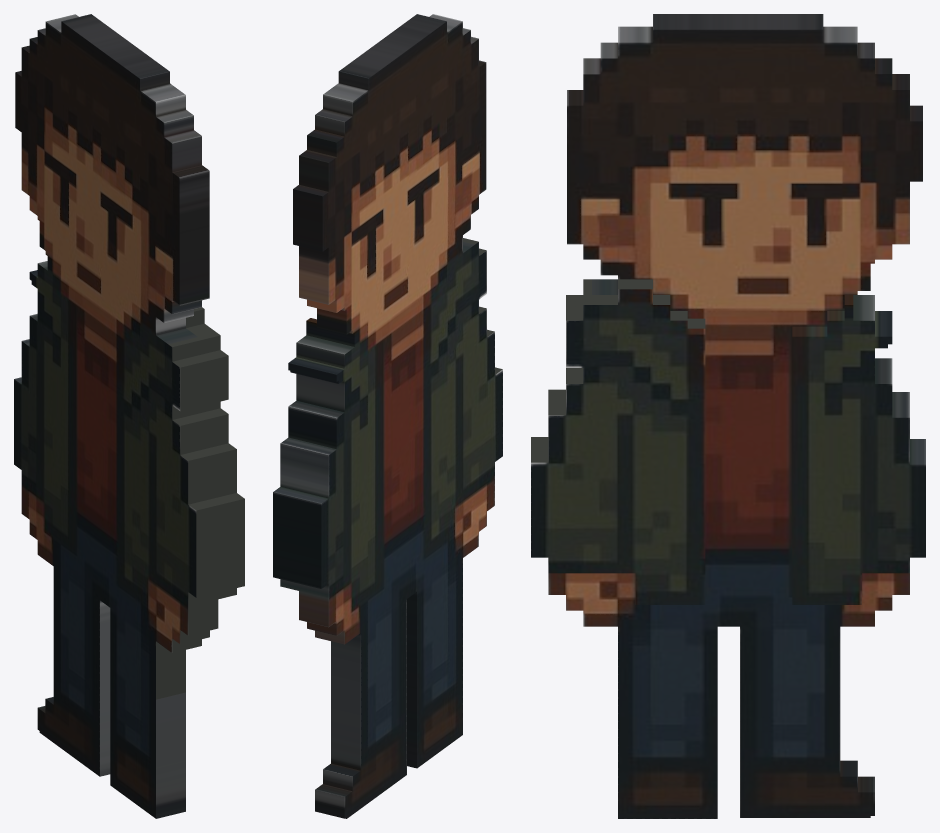
File: charcter left.fbx
The picture shows the model from 3 angles, left to right: view 1: azimuth 30°, elevation 25°; view 2: azimuth 150°, elevation 25°; view 3: azimuth 270°, elevation 25°; orthographic projection. The views are drawn at different scales.
Parts seen in each view (by area): view 1: ChatGPT_Image_14_05_2025__22_13_50-removebg-preview.002; view 2: ChatGPT_Image_14_05_2025__22_13_50-removebg-preview.002; view 3: ChatGPT_Image_14_05_2025__22_13_50-removebg-preview.002.
Part boxes in pixels (bbox=[...]): ChatGPT_Image_14_05_2025__22_13_50-removebg-preview.002: bbox=[14, 14, 244, 818]; ChatGPT_Image_14_05_2025__22_13_50-removebg-preview.002: bbox=[273, 14, 502, 818]; ChatGPT_Image_14_05_2025__22_13_50-removebg-preview.002: bbox=[531, 14, 925, 818].
Size of the model in its own units: 5.45 by 78.11 by 35.42.
